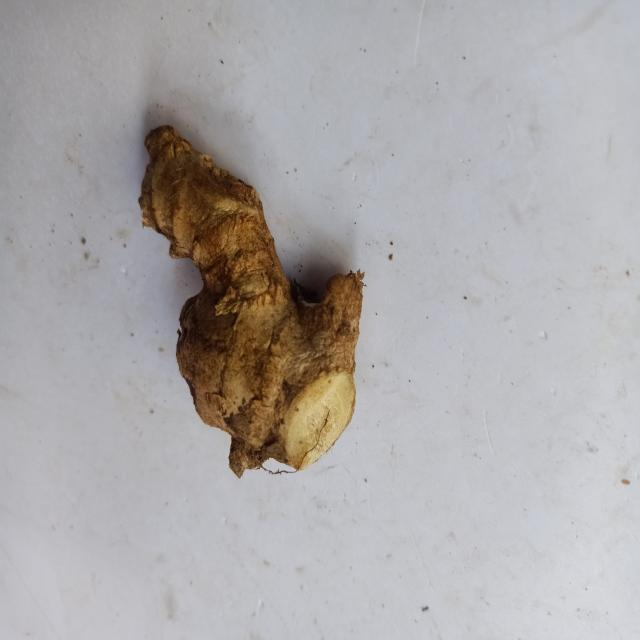Ginger: (139, 125, 364, 477)
